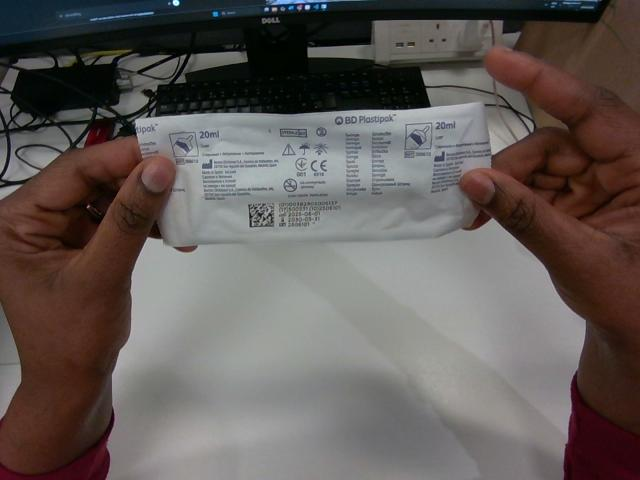syringe: (136, 103, 490, 245)
